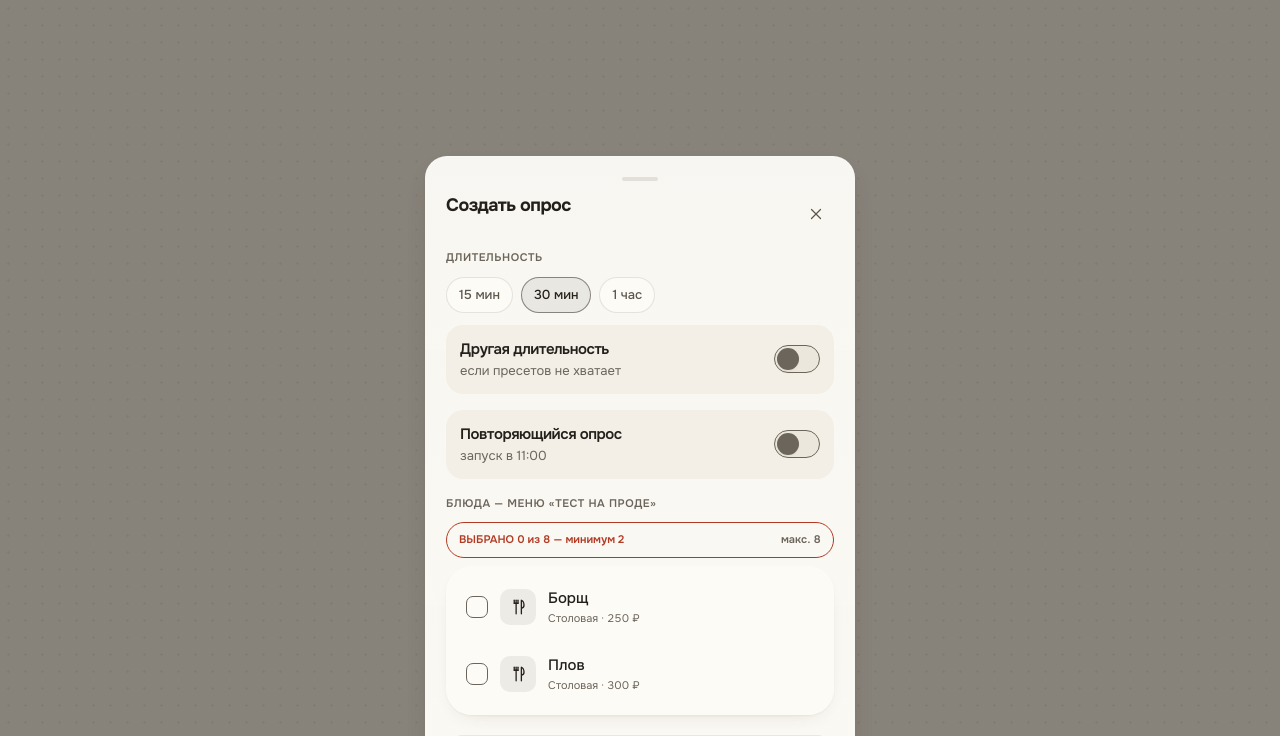
CreatePollSheet — расписание уже настроено › подсказывает текущее время и подставляет настройки при включении
Expected: the text "запуск в 11:00" is shown, [460,447,546,464]
Click the switch named "Повторяющийся опрос": (797, 444) [774,430,820,458]
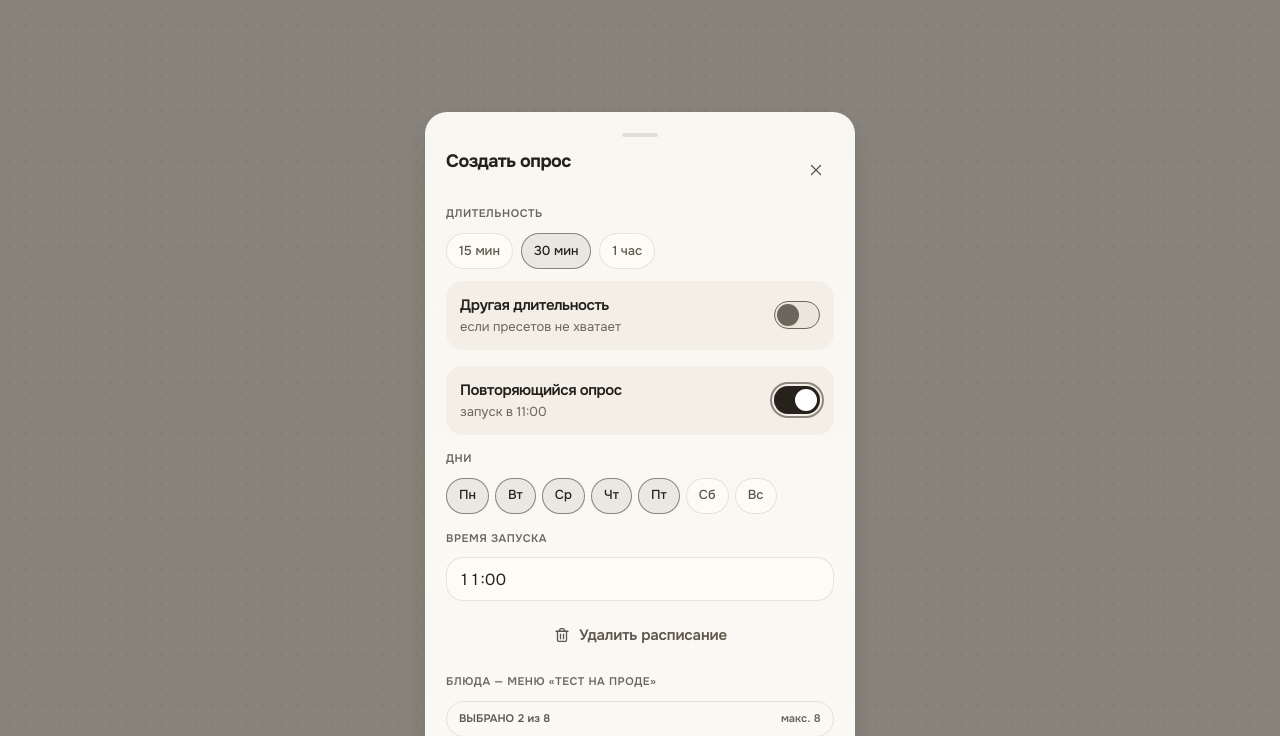
Result: the field showing "11:00" is shown at [446,557,834,601]
